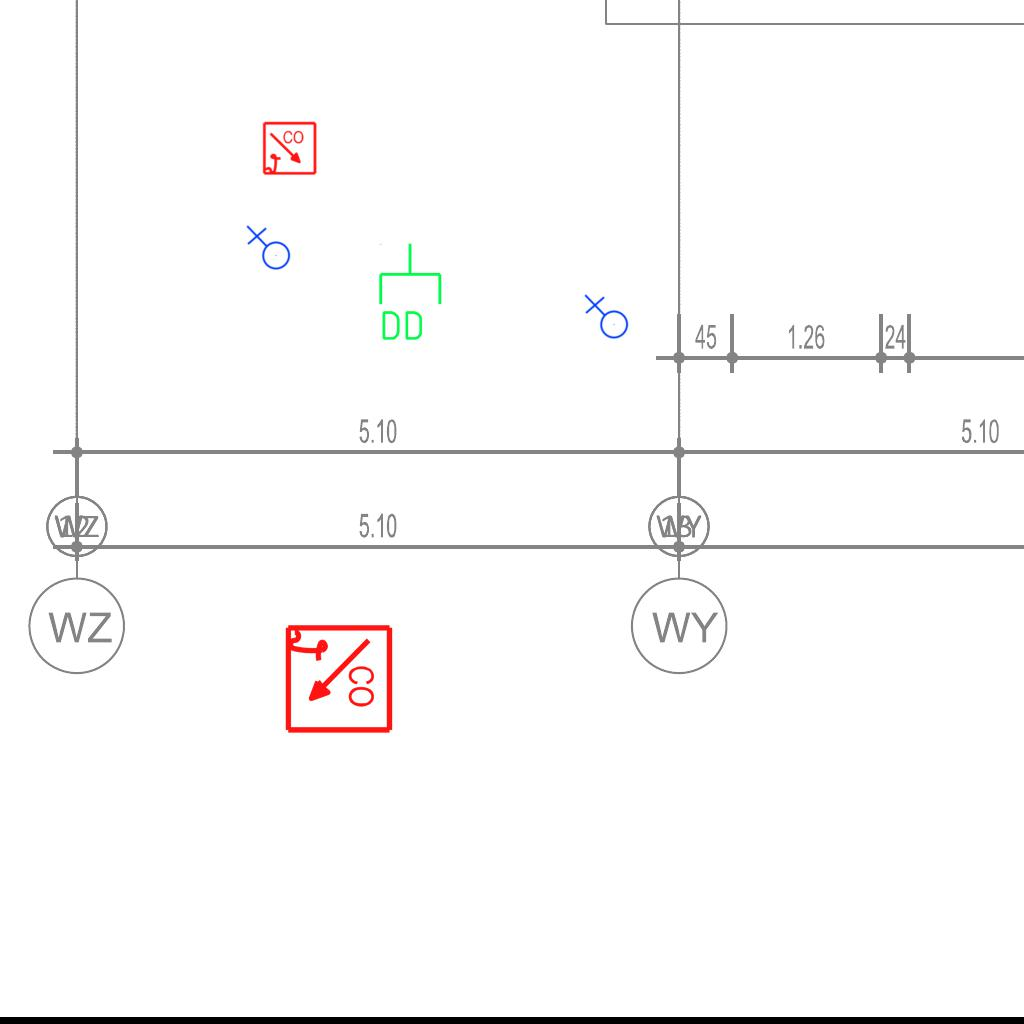Datenanschluss_zweifach: (375, 241, 444, 344)
Elektroanschluss_allgemein_230V_Geraeteanschlussdose_230V: (582, 294, 629, 343), (244, 225, 291, 274)
ROA_Rauchmelder_optisch_mit_Signalgeber_(Sockelsirene): (281, 623, 394, 736), (262, 121, 318, 177)
